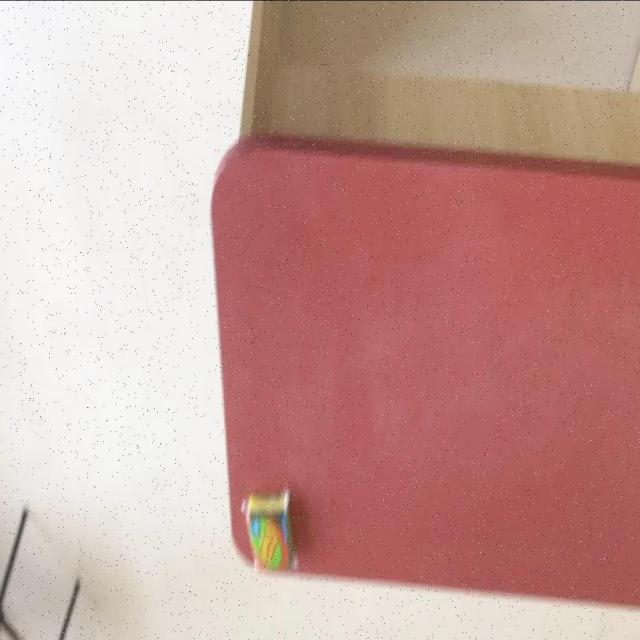Sponge: (207, 132, 640, 612), (241, 488, 294, 570)
